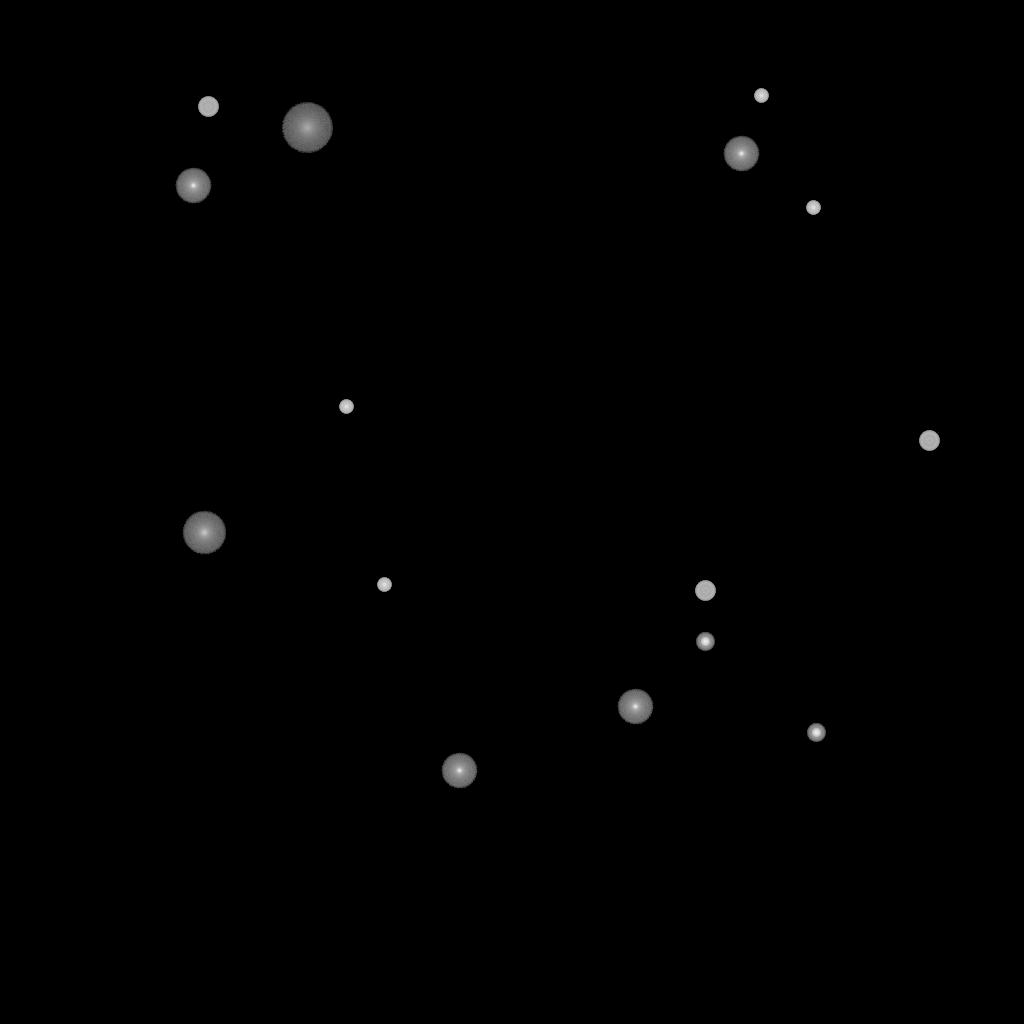depth:-20: (696, 633, 714, 651), (807, 724, 825, 742)
depth:-30: (339, 400, 353, 414), (377, 578, 391, 592), (806, 201, 820, 215), (754, 89, 768, 103)
depth:-40: (198, 97, 218, 117), (919, 431, 939, 451), (695, 581, 715, 601)
depth:0: (723, 136, 759, 172), (175, 168, 211, 204), (441, 753, 477, 789), (617, 689, 653, 725)
depth:10: (182, 511, 226, 555)
depth:20: (281, 103, 333, 153)
